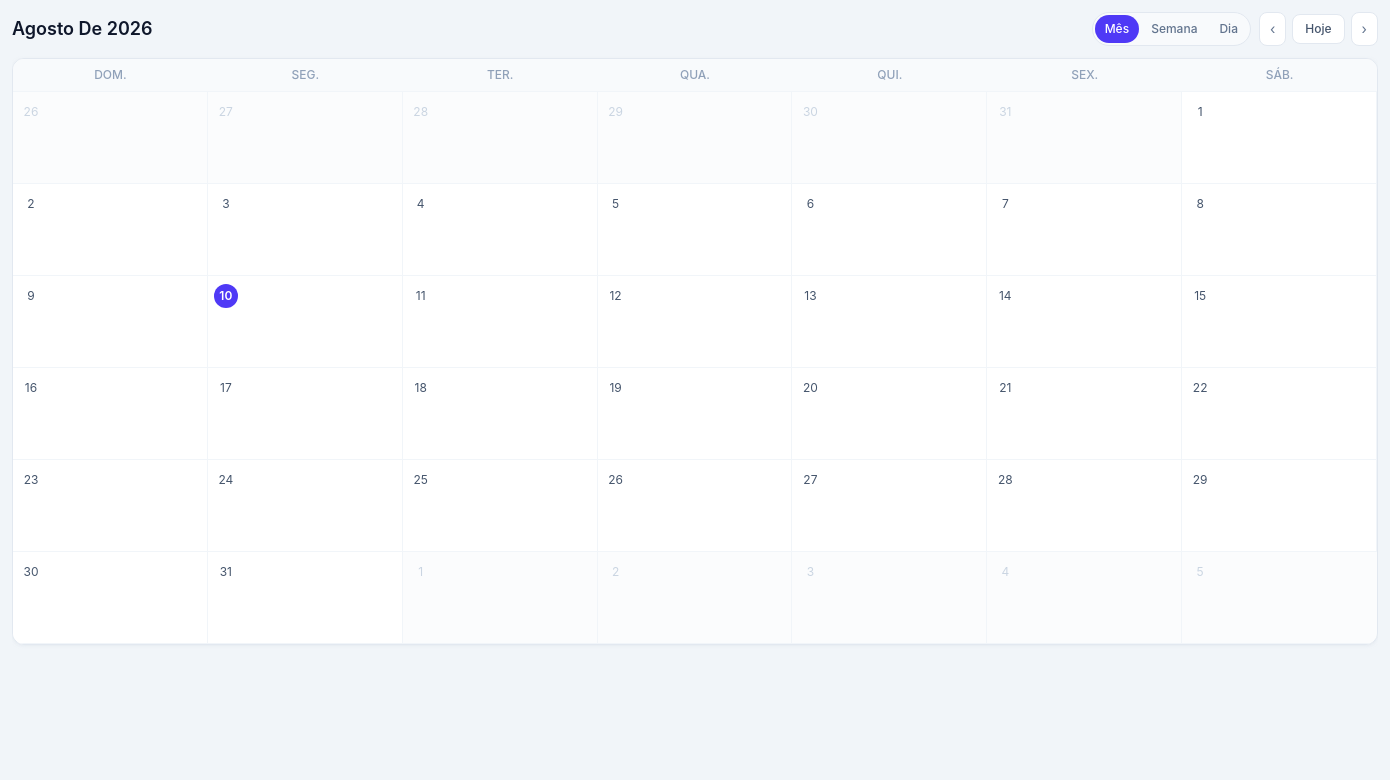
Test: CalendarView › navega para o mês seguinte e anterior
The image size is (1390, 780).
Click the button "›".
click(1364, 29)  # box [1351,12,1378,46]
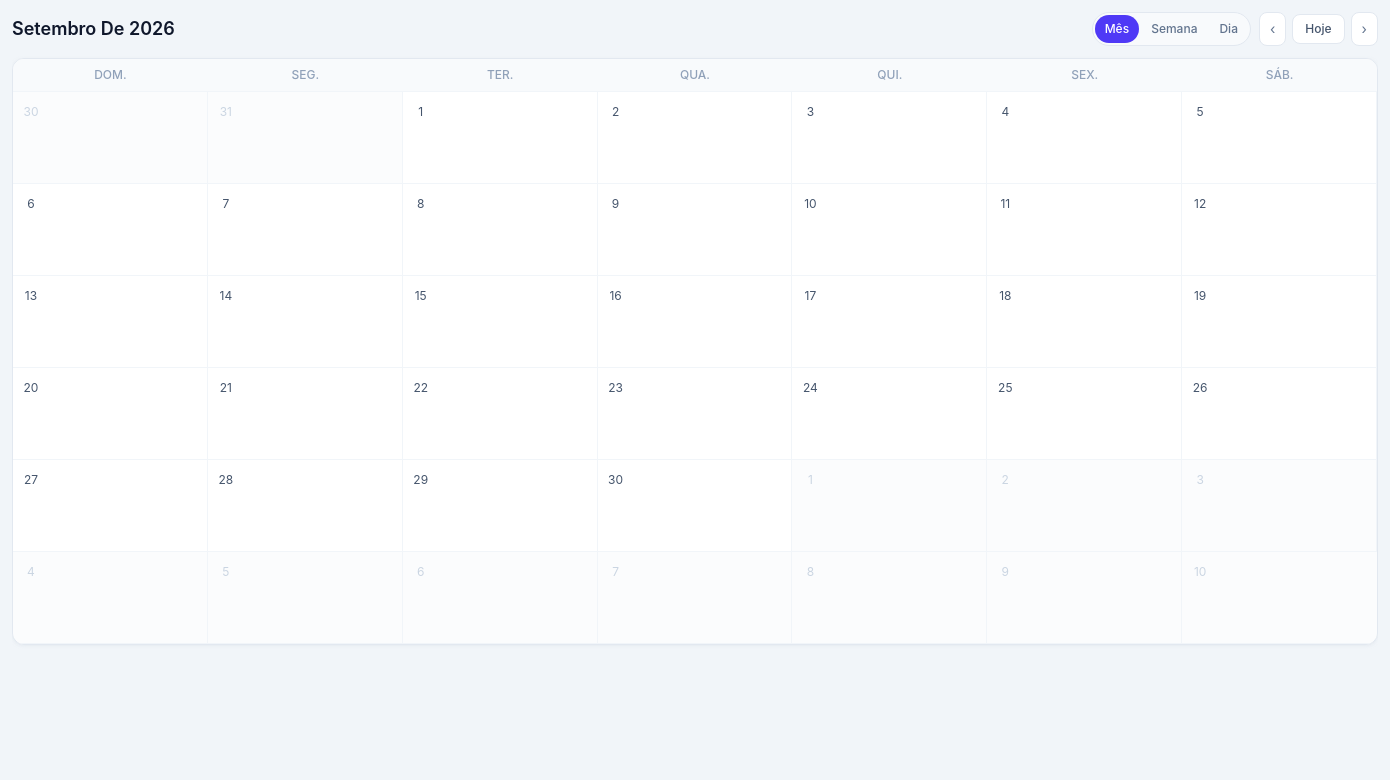
Expected: the heading "setembro de 2026" is shown, [12,15,175,43]
Click the button "‹".
click(1273, 29)  # box [1259,12,1286,46]
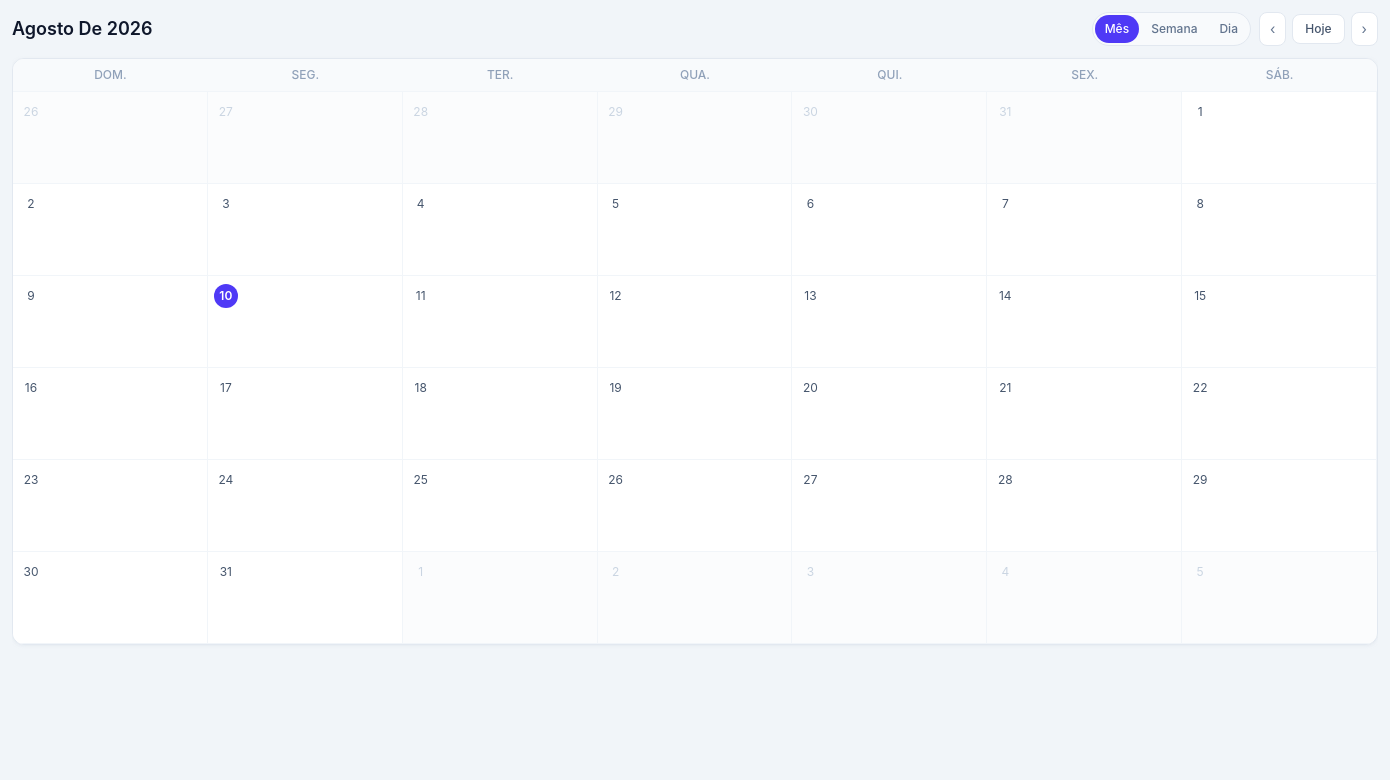
Click the button "‹".
click(1273, 29)  # box [1259,12,1286,46]
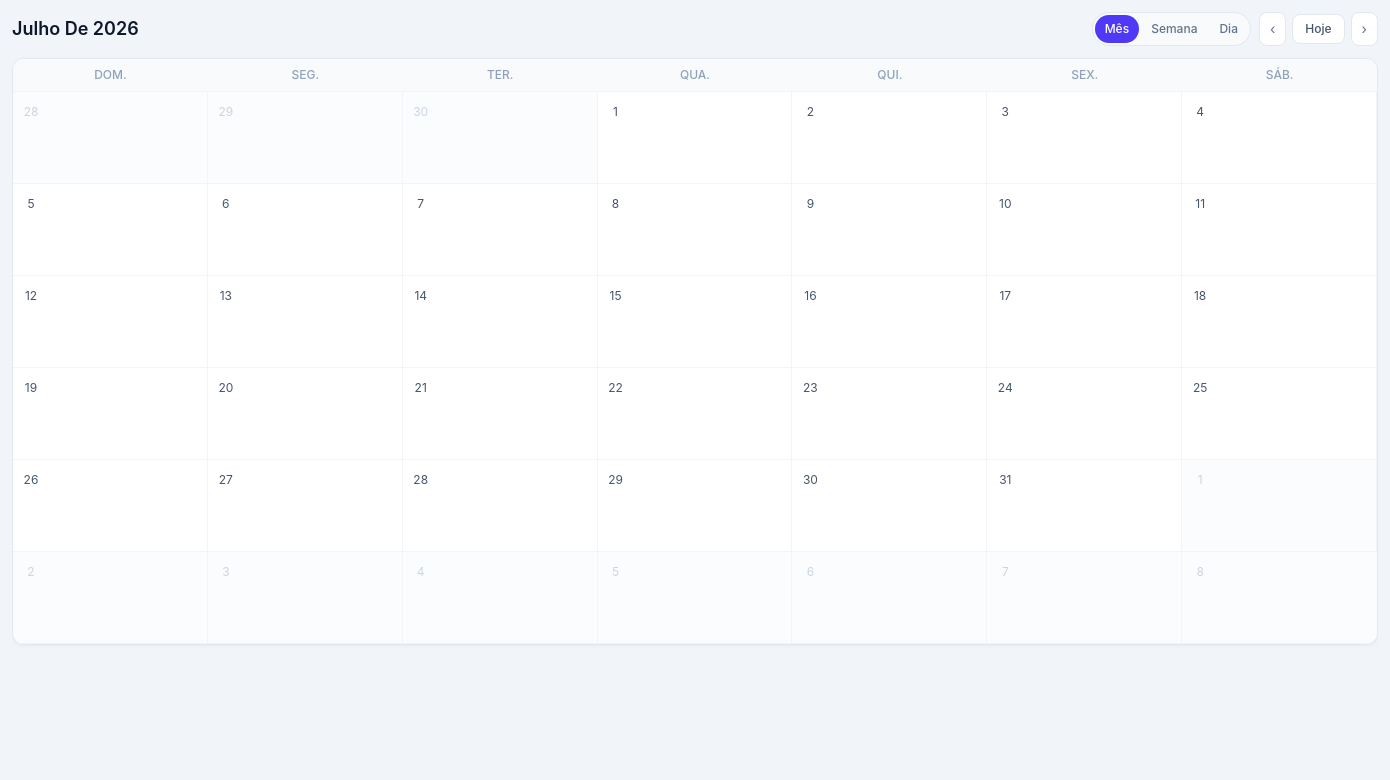
Expected: the heading "julho de 2026" is shown, [12,15,139,43]
